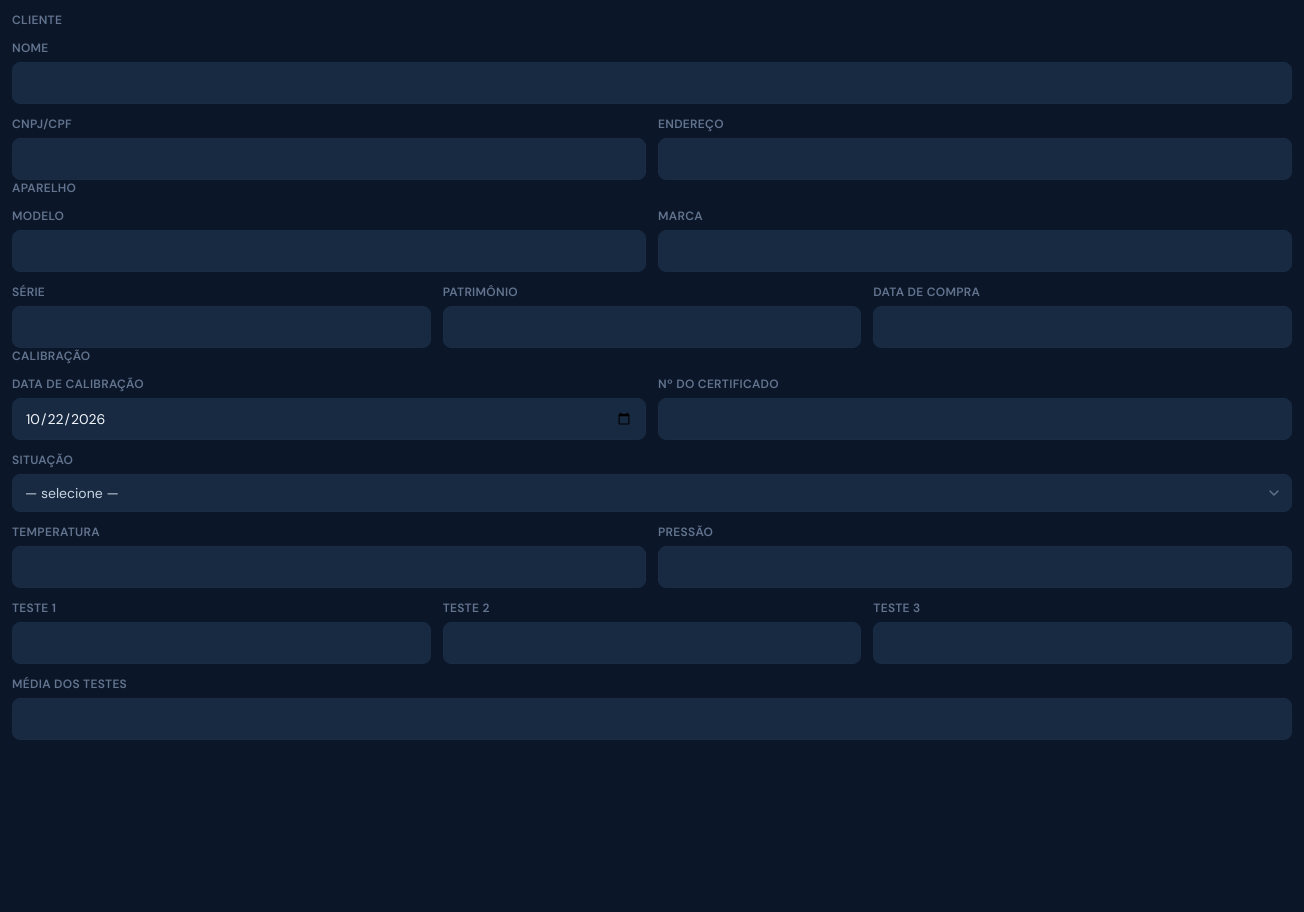
Test: CamposCertificado › calcula a media dos testes automaticamente
The width and height of the screenshot is (1304, 912).
Type "0,10" into the field labelled "Teste 1" at coordinates (221, 643), box x1=12 y1=622 x2=431 y2=664
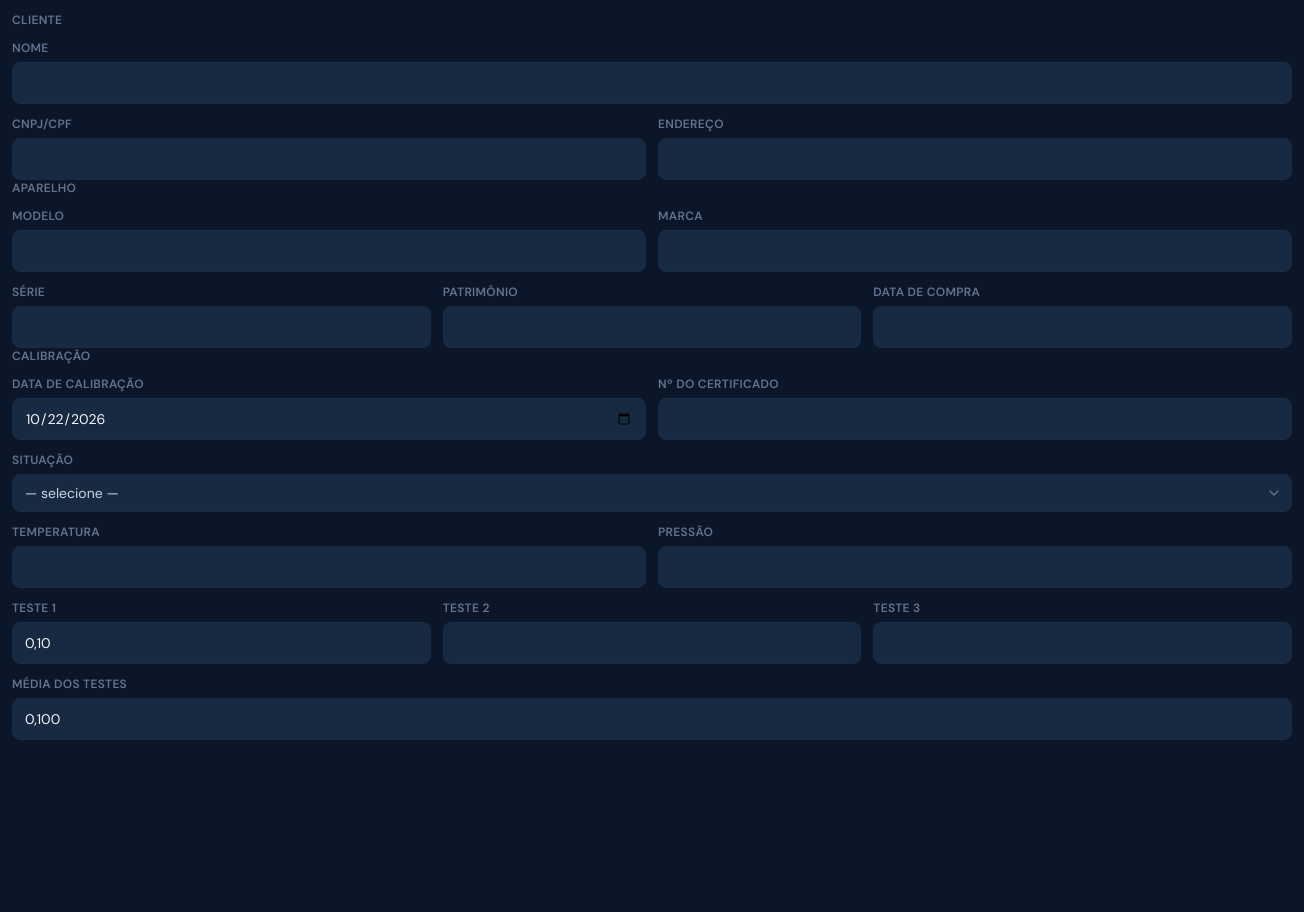
Type "0,20" into the field labelled "Teste 2" at coordinates (652, 643), box x1=443 y1=622 x2=861 y2=664
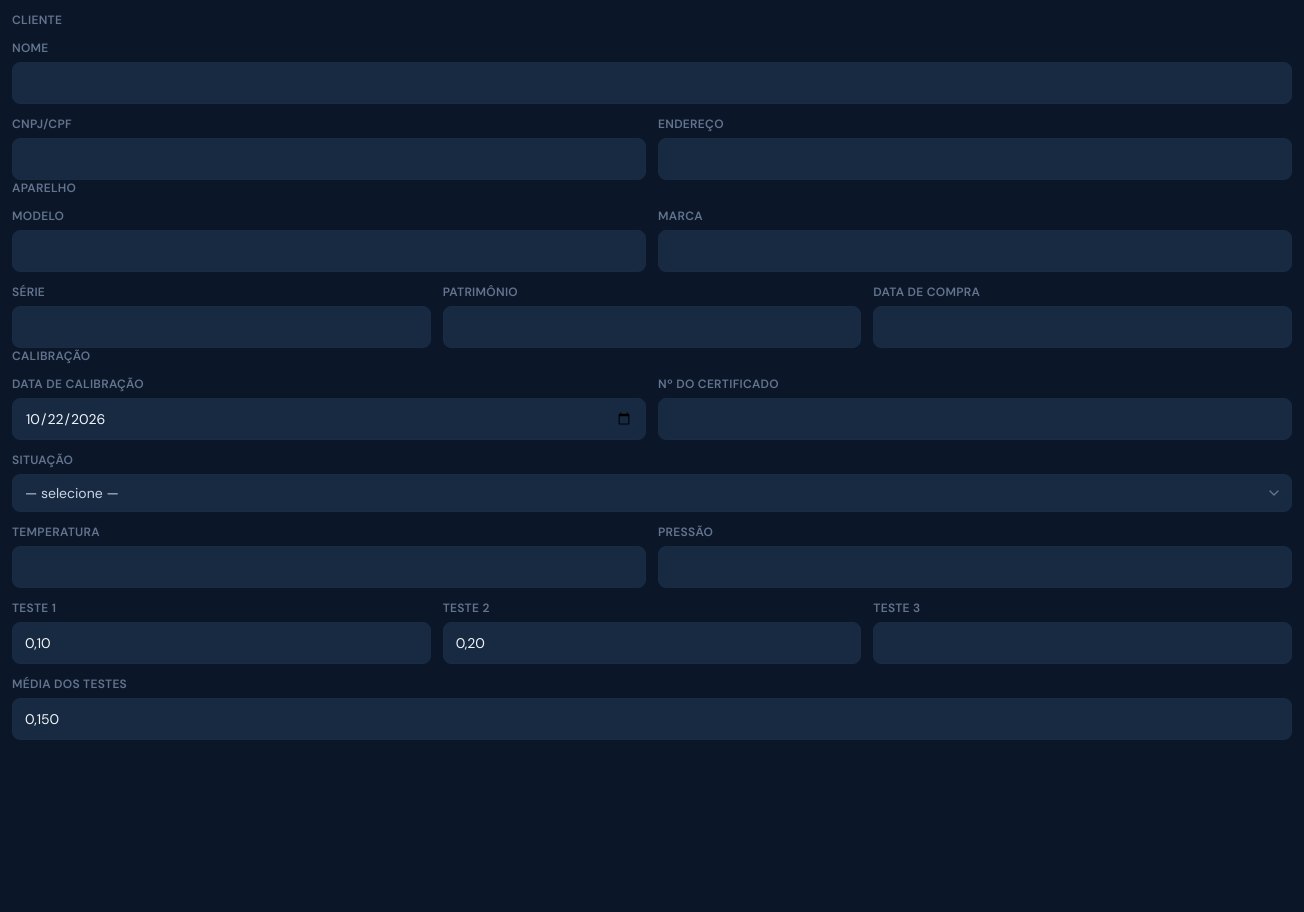
Type "0,30" into the field labelled "Teste 3" at coordinates (1083, 643), box x1=873 y1=622 x2=1292 y2=664
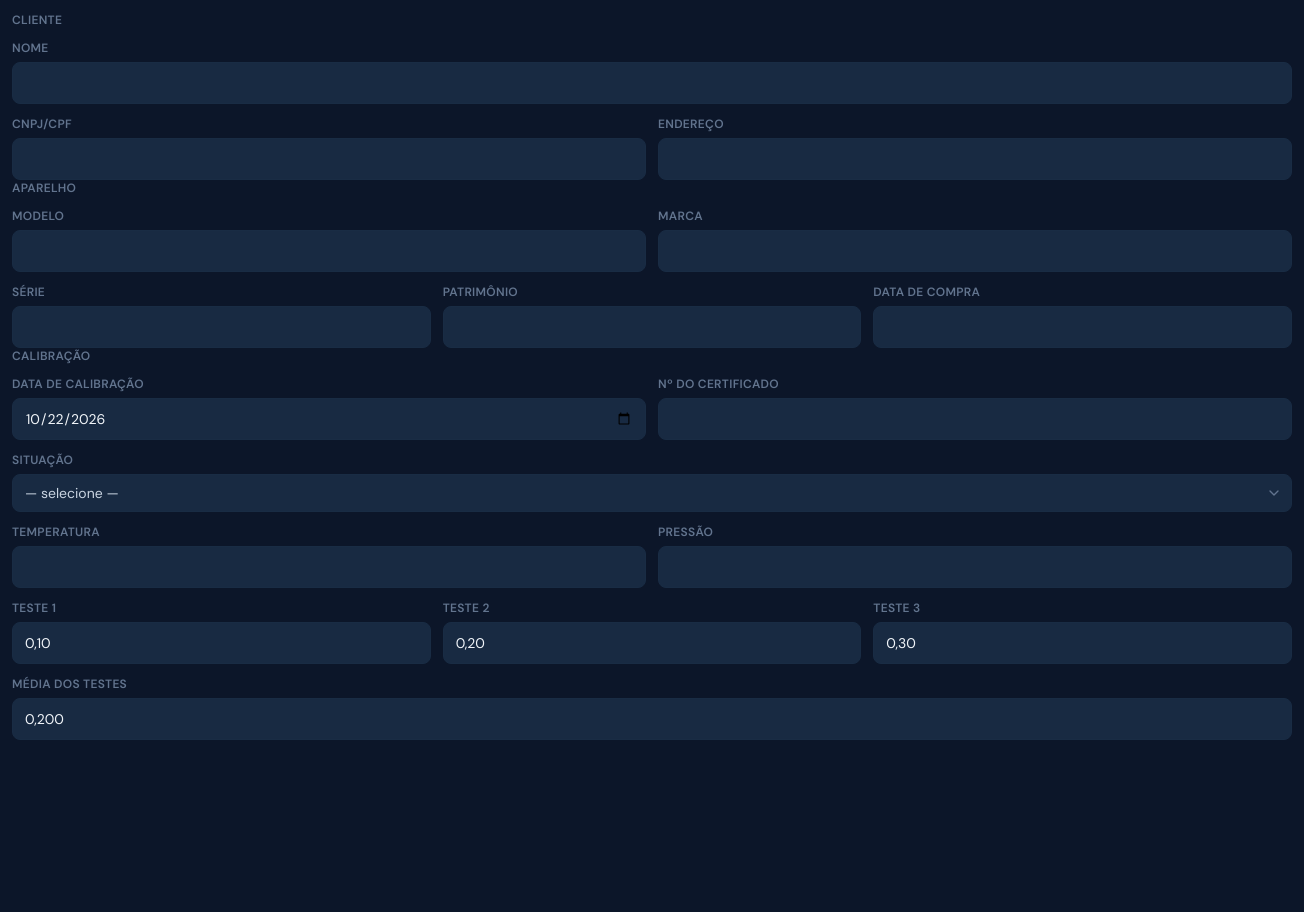
Result: the field labelled "Média dos testes" holds "0,200" at x1=12 y1=698 x2=1292 y2=740
